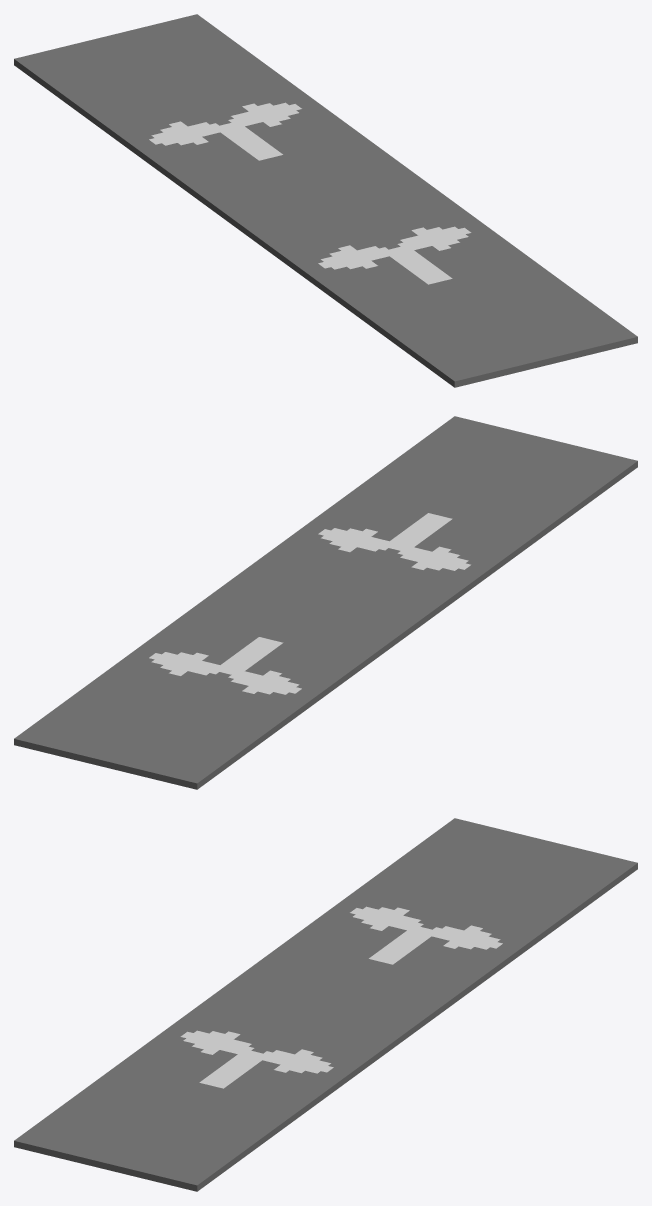
The model's file is turn-lane-both.obj.
The picture shows the model from 3 angles, top to bottom: view 1: azimuth 30°, elevation 25°; view 2: azimuth 150°, elevation 25°; view 3: azimuth 330°, elevation 25°; orthographic projection.
Size of the model in its own units: 30 by 1 by 125.
